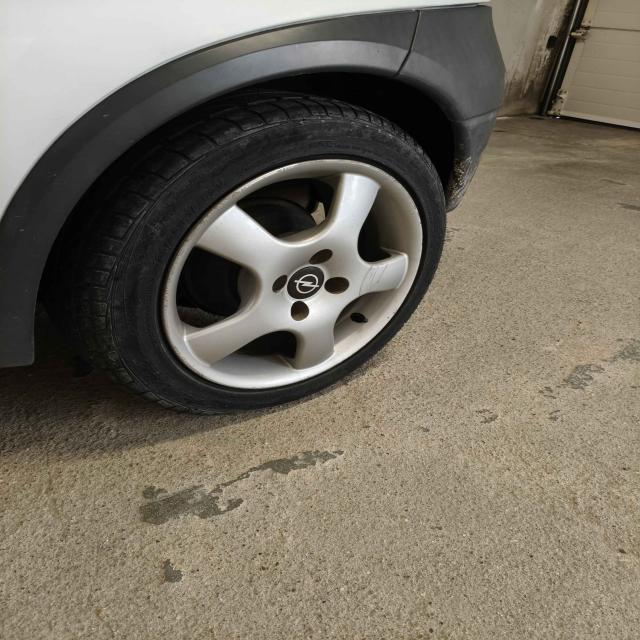jante: (161, 158, 425, 392)
parafuso: (324, 271, 351, 300), (305, 248, 337, 268), (288, 301, 314, 324), (268, 270, 290, 296)
roda: (58, 90, 448, 416)
